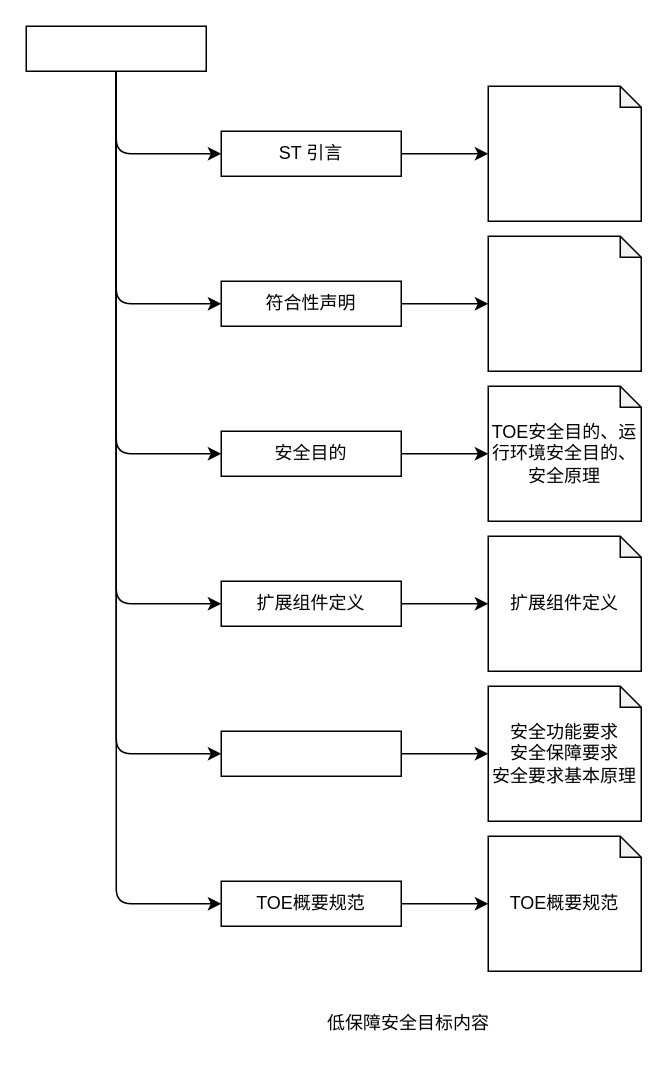
Some shapes in this 668 by 1073 pixel diagram are drawn without their labels. The centre of each missing label's shape, as x and y in pixels:
"CC符合性声明 PP声明 包声明 符合性基本原理" goes at point 564,303.
"ST参照号 TOE参照号 TOE概述 TOE描述" goes at point 564,153.
"安全目标（ST）" goes at point 115,48.
"安全要求" goes at point 310,753.
